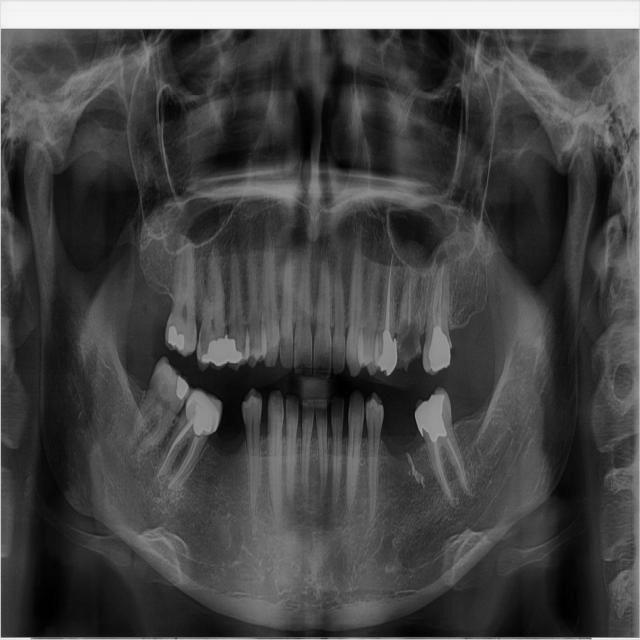Caries: (196, 326, 207, 356), (280, 330, 286, 354), (294, 337, 298, 352)
Crown: (186, 390, 225, 436)
Filling: (414, 395, 447, 442), (429, 328, 450, 373), (378, 331, 397, 374), (202, 338, 228, 366), (225, 337, 242, 364), (168, 326, 184, 351), (176, 376, 188, 398)
Missing teeth: (379, 404, 428, 458), (206, 394, 246, 455)
Root Canal Treatment: (155, 419, 192, 477), (169, 435, 198, 489), (444, 432, 469, 490), (433, 440, 454, 501), (384, 252, 393, 331), (437, 260, 444, 327)
Root Piece: (394, 258, 416, 372), (408, 272, 432, 371)
